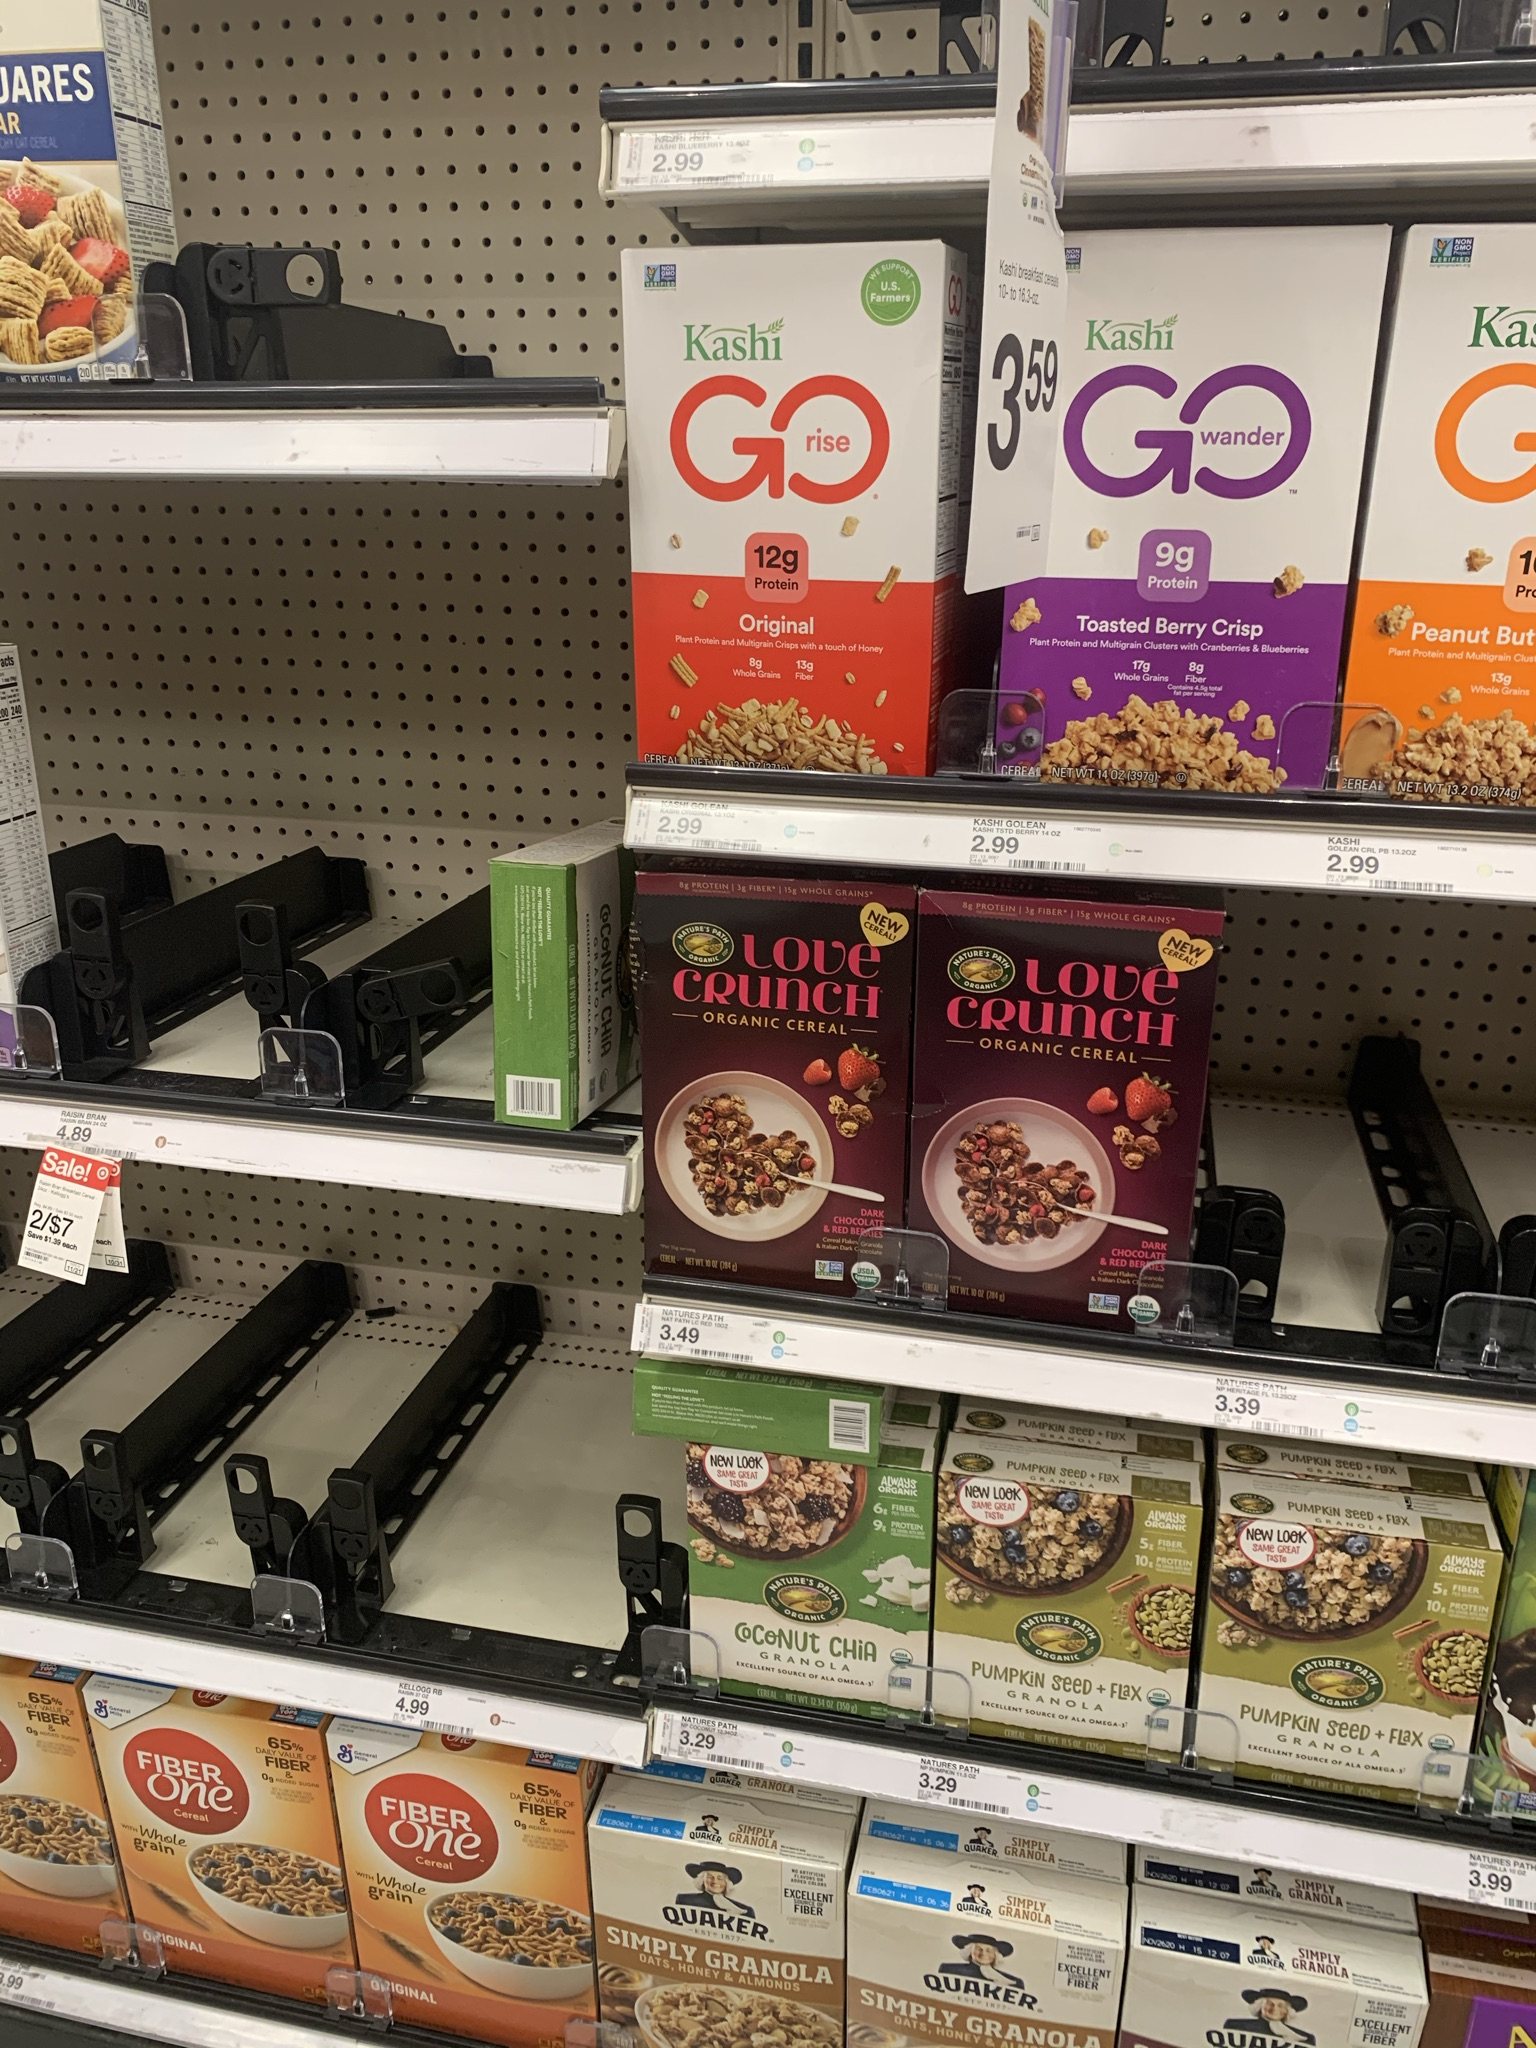Cereal Kashi: (1029, 240, 1329, 769), (628, 269, 942, 760), (1418, 247, 1536, 789)
Cereal cocounut chia: (678, 1409, 933, 1759), (952, 1443, 1192, 1766), (1233, 1521, 1484, 1801)
Cereal fiber one: (106, 1701, 357, 2033), (353, 1766, 592, 2048)
Cereal love Crunch: (928, 906, 1212, 1329), (637, 906, 889, 1293)
Cereal quaker: (611, 1838, 849, 2048), (866, 1896, 1102, 2048), (1157, 1945, 1383, 2048)
